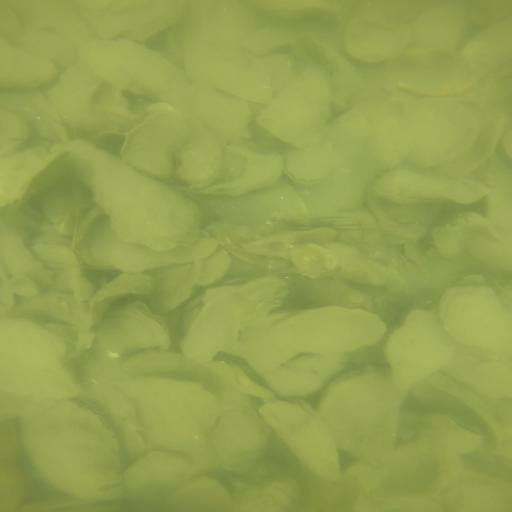Oyster-Closed: (60, 142, 203, 250), (238, 307, 386, 381), (25, 402, 124, 500), (321, 370, 415, 462), (87, 223, 226, 271), (361, 446, 464, 509), (1, 323, 83, 402), (258, 403, 340, 482), (387, 310, 465, 390), (131, 376, 219, 446), (84, 40, 189, 96), (406, 96, 482, 170), (439, 285, 512, 361), (261, 72, 329, 147), (367, 187, 451, 246), (128, 106, 194, 181), (370, 168, 493, 206), (83, 1, 186, 42), (213, 409, 276, 473), (347, 12, 417, 66), (240, 227, 341, 263), (127, 450, 192, 503), (269, 356, 342, 402), (208, 156, 286, 195), (1, 40, 60, 90), (75, 207, 118, 271), (180, 130, 221, 188), (235, 477, 301, 512), (150, 264, 198, 311), (175, 478, 232, 512), (283, 151, 329, 186)
Oyster-Open: (290, 261, 408, 314), (99, 298, 177, 363), (176, 289, 240, 364), (195, 348, 282, 403), (2, 147, 69, 208)
